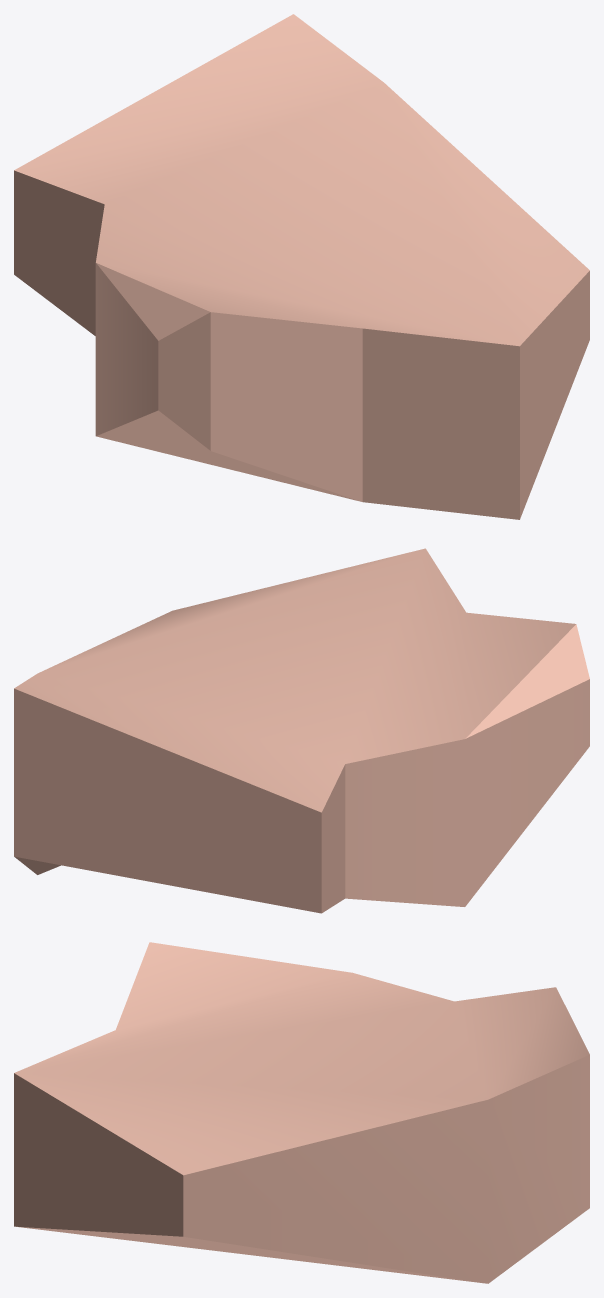
File: jade.gltf
3 views of the same model, one above another, from view 1: azimuth 30°, elevation 25°; view 2: azimuth 150°, elevation 25°; view 3: azimuth 270°, elevation 25° (orthographic). The views are drawn at different scales.
Parts seen in each view (by area): view 1: jade; view 2: jade; view 3: jade.
Part boxes in pixels (bbox=[...]): jade: bbox=[14, 14, 589, 519]; jade: bbox=[14, 548, 589, 913]; jade: bbox=[14, 942, 589, 1283].
Bounding box in the file's own units: 0.1378 × 0.0742 × 0.1802.
